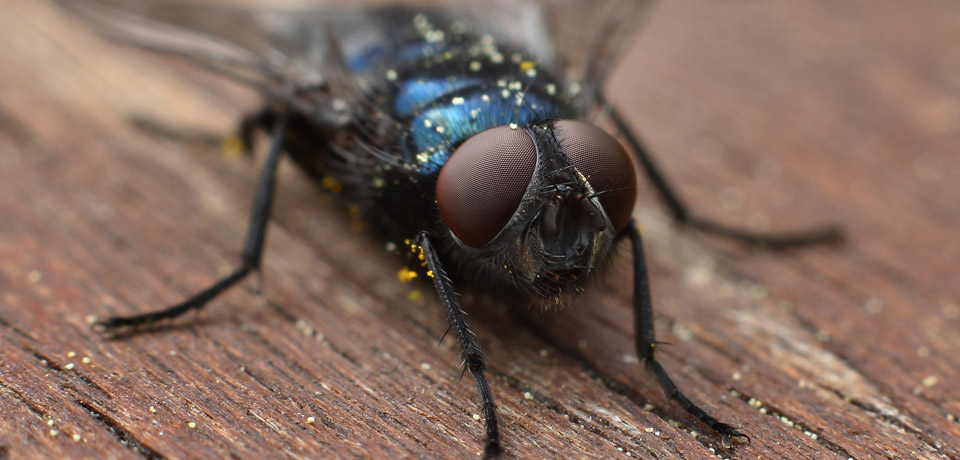green bottles flies: (89, 1, 797, 380)
